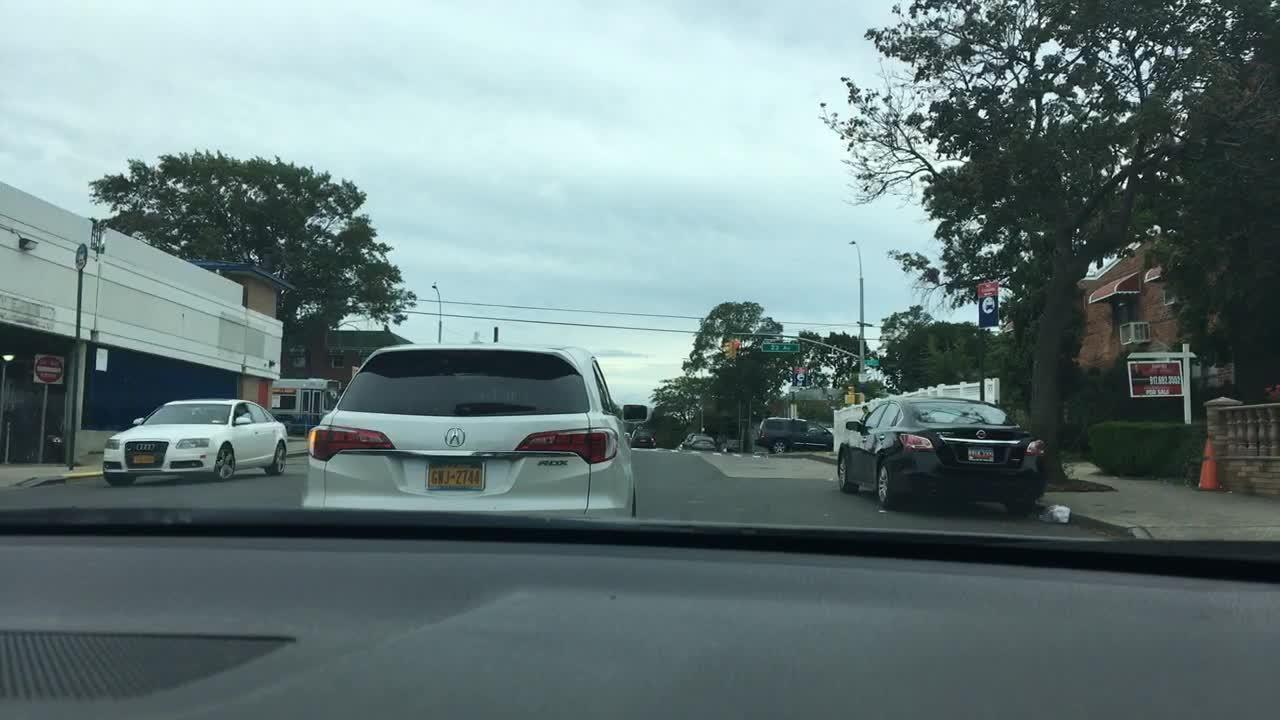Audi: (133, 439, 159, 456)
Nissan: (974, 428, 991, 441)
acura: (437, 420, 477, 454)
